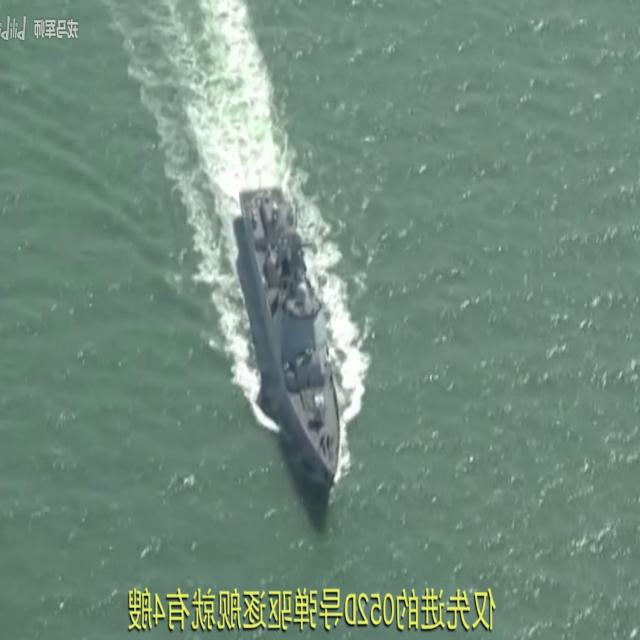navalvessels: (242, 171, 344, 485)
